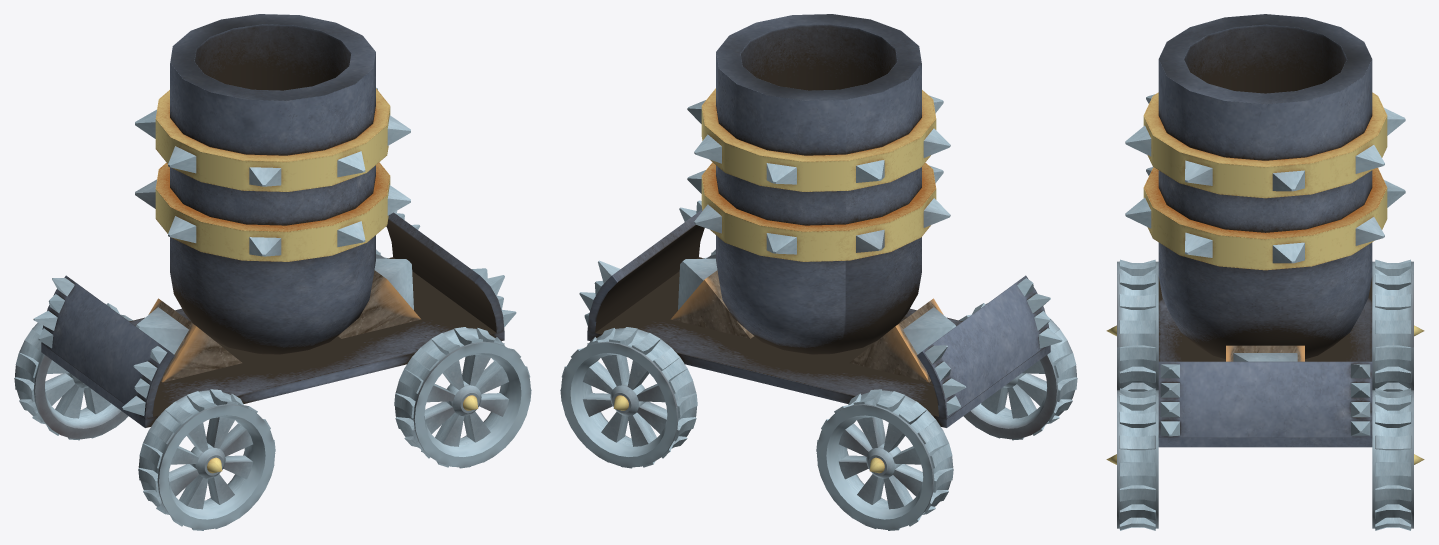
Rendered from Gun06.fbx.
The picture shows the model from 3 angles, left to right: view 1: azimuth 30°, elevation 25°; view 2: azimuth 150°, elevation 25°; view 3: azimuth 270°, elevation 25°; orthographic projection. The views are drawn at different scales.
Parts seen in each view (by area): view 1: Cylinder.047, Cylinder.001, Plane.013, Plane.012, Cylinder.054; view 2: Cylinder.047, Cylinder.001, Plane.013, Plane.012, Cylinder.054; view 3: Cylinder.047, Cylinder.001, Plane.013, Plane.012, Cylinder.054.
Part boxes in pixels (<box>): Cylinder.047: <box>135,14,410,354</box>; Cylinder.001: <box>14,249,531,530</box>; Plane.013: <box>33,211,516,418</box>; Plane.012: <box>41,257,504,427</box>; Cylinder.054: <box>136,258,421,382</box>; Cylinder.047: <box>687,14,950,354</box>; Cylinder.001: <box>560,249,1077,530</box>; Plane.013: <box>579,200,1062,418</box>; Plane.012: <box>587,257,1050,427</box>; Cylinder.054: <box>670,258,955,382</box>; Cylinder.047: <box>1125,14,1405,358</box>; Cylinder.001: <box>1106,259,1424,530</box>; Plane.013: <box>1158,361,1372,437</box>; Plane.012: <box>1158,277,1372,447</box>; Cylinder.054: <box>1226,345,1304,361</box>.
Size of the model in its own units: 438 by 414 by 298.
1 material, 1 textured.
